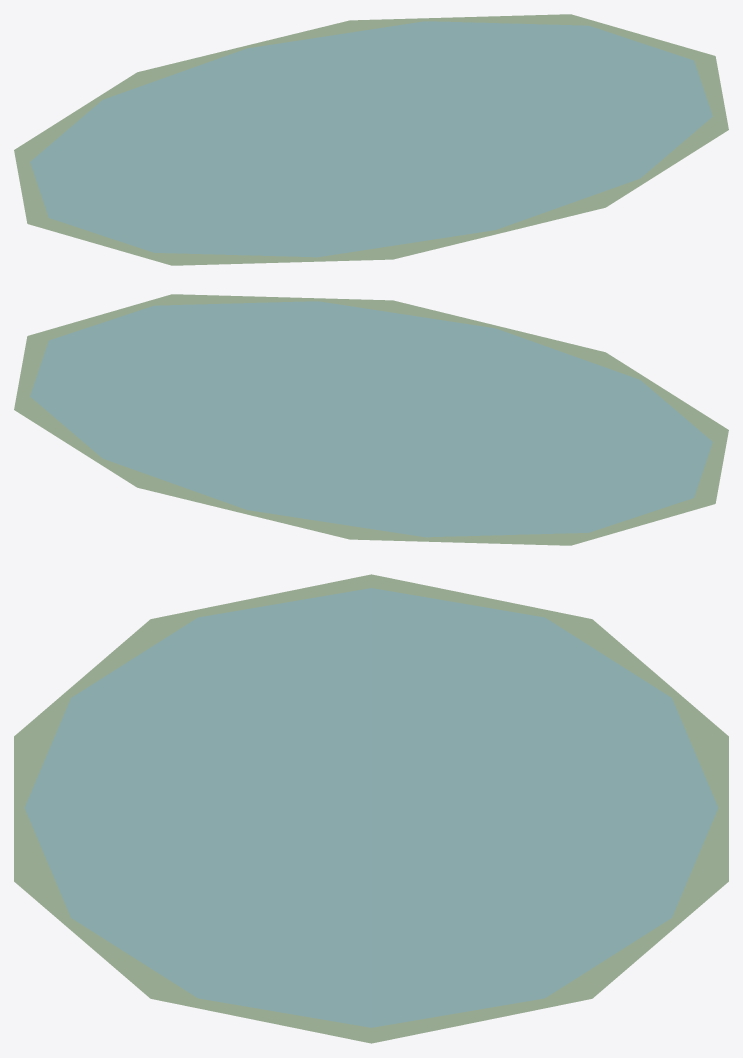
File: lake-area.glb
3 views of the same model, one above another, from view 1: azimuth 30°, elevation 25°; view 2: azimuth 150°, elevation 25°; view 3: azimuth 270°, elevation 25° (orthographic). The views are drawn at different scales.
Parts seen in each view (by area): view 1: spatial-root; view 2: spatial-root; view 3: spatial-root.
Part boxes in pixels (x1,y1,x2,y2): spatial-root: (14,14,728,265); spatial-root: (14,294,728,545); spatial-root: (14,574,728,1043).
Bounding box in the file's own units: 19.2 × 0.02 × 12.36.
